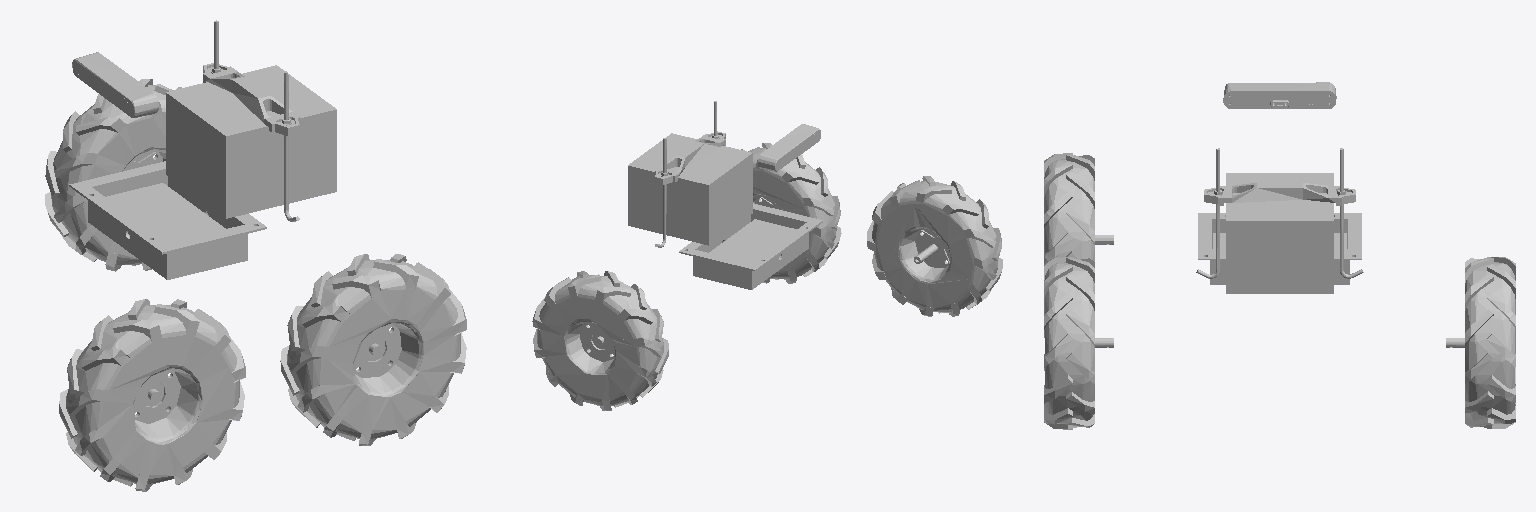
robot.urdf — assem:
<robot name="assem" version="1.0">
  <joint name="Cube_link_joint" type="fixed">
    <origin rpy="0.00000 0.00000 0.00000" xyz="0.01837 -0.07980 -0.04656"/>
    <parent link="chassisAssembly_-_electronicsHousing-1_Rough_6_Pin_Pannel_C.002"/>
    <child link="Cube_link"/>
  </joint>
  <joint name="LongMotorAssem_V4 - Rough Shaft_V2-1.001_link_joint" type="continuous">
    <limit lower="0.00000" upper="0.00000" effort="0.00000" velocity="0.00000"/>
    <origin rpy="0.00000 0.00000 -2.34661" xyz="0.12032 -0.18908 0.02638"/>
    <parent link="suspensionAssemblyMirror_-_bogieCenterBracket_Outside-6_link"/>
    <child link="LongMotorAssem_V4_-_Rough_Shaft_V2-1.001_link"/>
    <axis xyz="0.00000 0.00000 1.00000"/>
  </joint>
  <joint name="LongMotorAssem_V4 - Rough Shaft_V2-1.002_link_joint" type="continuous">
    <limit lower="0.00000" upper="0.00000" effort="0.00000" velocity="0.00000"/>
    <origin rpy="-0.00000 0.00000 2.19125" xyz="-0.17866 -0.06537 0.02638"/>
    <parent link="suspensionAssemblyMirror_-_bogieCenterBracket_Outside-6_link"/>
    <child link="LongMotorAssem_V4_-_Rough_Shaft_V2-1.002_link"/>
    <axis xyz="0.00000 0.00000 1.00000"/>
  </joint>
  <joint name="LongMotorAssem_V4 - Rough Shaft_V2-1.003_link_joint" type="continuous">
    <limit lower="0.00000" upper="0.00000" effort="0.00000" velocity="0.00000"/>
    <origin rpy="0.00000 0.00000 2.05076" xyz="-0.29512 -0.20932 0.09071"/>
    <parent link="suspensionAssemblyMirror_-_RockerArmBack-7.001_link"/>
    <child link="LongMotorAssem_V4_-_Rough_Shaft_V2-1.003_link"/>
    <axis xyz="0.00000 0.00000 1.00000"/>
  </joint>
  <joint name="LongMotorAssem_V4 - Rough Shaft_V2-1.004_link_joint" type="continuous">
    <limit lower="0.00000" upper="0.00000" effort="0.00000" velocity="0.00000"/>
    <origin rpy="-0.00000 0.00000 2.34661" xyz="-0.12032 -0.18908 0.02638"/>
    <parent link="suspensionAssemblyMirror_-_bogieCenterBracket_Outside-6.001_lin"/>
    <child link="LongMotorAssem_V4_-_Rough_Shaft_V2-1.004_link"/>
    <axis xyz="0.00000 0.00000 1.00000"/>
  </joint>
  <joint name="LongMotorAssem_V4 - Rough Shaft_V2-1.005_link_joint" type="continuous">
    <limit lower="0.00000" upper="0.00000" effort="0.00000" velocity="0.00000"/>
    <origin rpy="-0.00000 0.00000 0.26966" xyz="0.17866 -0.06537 0.02638"/>
    <parent link="suspensionAssemblyMirror_-_bogieCenterBracket_Outside-6.001_lin"/>
    <child link="LongMotorAssem_V4_-_Rough_Shaft_V2-1.005_link"/>
    <axis xyz="0.00000 0.00000 1.00000"/>
  </joint>
  <joint name="LongMotorAssem_V4 - Rough Shaft_V2-1_link_joint" type="continuous">
    <limit lower="0.00000" upper="0.00000" effort="0.00000" velocity="0.00000"/>
    <origin rpy="-0.00000 -0.00000 -2.05076" xyz="0.29512 -0.20932 0.09071"/>
    <parent link="suspensionAssemblyMirror_-_RockerArmBack-7_link"/>
    <child link="LongMotorAssem_V4_-_Rough_Shaft_V2-1_link"/>
    <axis xyz="0.00000 0.00000 1.00000"/>
  </joint>
  <joint name="Zed2-i_link_joint" type="fixed">
    <origin rpy="1.57080 0.00000 -1.57080" xyz="-0.08420 0.00894 0.08299"/>
    <parent link="chassisAssembly_-_electronicsHousing-1_Rough_6_Pin_Pannel_C.002"/>
    <child link="Zed2-i_link"/>
  </joint>
  <joint name="chassisAssembly - electronicsHousing-1 Rough 6 Pin Pannel C.002_joint" type="fixed">
    <origin rpy="0.00000 0.00000 0.00000" xyz="-0.08592 -0.00513 0.39248"/>
    <parent link="chassisAssembly_-_chassisFrameShort-2_link"/>
    <child link="chassisAssembly_-_electronicsHousing-1_Rough_6_Pin_Pannel_C.002"/>
  </joint>
  <joint name="chassisAssembly - roverBattery-1_link_joint" type="fixed">
    <origin rpy="0.00000 0.00000 0.00000" xyz="0.05208 0.00000 0.34177"/>
    <parent link="chassisAssembly_-_chassisFrameShort-2_link"/>
    <child link="chassisAssembly_-_roverBattery-1_link"/>
  </joint>
  <joint name="chassisAssembly - sensorPackageEnclosure-1_link_joint" type="fixed">
    <origin rpy="-3.14159 0.00000 0.00000" xyz="-0.07970 -0.00236 0.26479"/>
    <parent link="chassisAssembly_-_chassisFrameShort-2_link"/>
    <child link="chassisAssembly_-_sensorPackageEnclosure-1_link"/>
  </joint>
  <joint name="suspensionAssemblyMirror - RockerArmBack-7.001_link_joint" type="revolute">
    <limit lower="-3.14000" upper="3.14000" effort="0.00000" velocity="0.00000"/>
    <origin rpy="1.57080 -0.00000 0.00000" xyz="0.00500 -0.16509 0.38099"/>
    <parent link="chassisAssembly_-_chassisFrameShort-2_link"/>
    <child link="suspensionAssemblyMirror_-_RockerArmBack-7.001_link"/>
    <axis xyz="0.00000 0.00000 1.00000"/>
  </joint>
  <joint name="suspensionAssemblyMirror - RockerArmBack-7_link_joint" type="revolute">
    <limit lower="-3.14000" upper="3.14000" effort="0.00000" velocity="0.00000"/>
    <origin rpy="1.57080 0.00000 3.14159" xyz="0.00509 0.16510 0.38132"/>
    <parent link="chassisAssembly_-_chassisFrameShort-2_link"/>
    <child link="suspensionAssemblyMirror_-_RockerArmBack-7_link"/>
    <axis xyz="0.00000 0.00000 1.00000"/>
  </joint>
  <joint name="suspensionAssemblyMirror - bogieCenterBracket_Outside-6.001_lin_joint" type="revolute">
    <limit lower="-3.14000" upper="3.14000" effort="0.00000" velocity="0.00000"/>
    <origin rpy="0.00000 0.00000 -0.26966" xyz="0.22047 -0.07218 0.06434"/>
    <parent link="suspensionAssemblyMirror_-_RockerArmBack-7.001_link"/>
    <child link="suspensionAssemblyMirror_-_bogieCenterBracket_Outside-6.001_lin"/>
    <axis xyz="0.00000 0.00000 1.00000"/>
  </joint>
  <joint name="suspensionAssemblyMirror - bogieCenterBracket_Outside-6_link_joint" type="revolute">
    <limit lower="-3.14000" upper="3.14000" effort="0.00000" velocity="0.00000"/>
    <origin rpy="0.00000 0.00000 0.26966" xyz="-0.22047 -0.07218 0.06434"/>
    <parent link="suspensionAssemblyMirror_-_RockerArmBack-7_link"/>
    <child link="suspensionAssemblyMirror_-_bogieCenterBracket_Outside-6_link"/>
    <axis xyz="0.00000 0.00000 1.00000"/>
  </joint>
  <link name="Cube_link"/>
  <link name="LongMotorAssem_V4_-_Rough_Shaft_V2-1.001_link">
    <collision name="LongMotorAssem_V4 - Rough Shaft_V2-1.001_collision">
      <origin rpy="-3.14159 0.00000 0.00000" xyz="0.00006 -0.00002 0.06622"/>
      <geometry>
        <cylinder radius="0.13329" length="0.10744"/>
      </geometry>
    </collision>
    <inertial>
      <inertia ixx="0.00162" ixy="0.00000" ixz="0.00000" iyy="0.00267" iyz="0.00000" izz="0.00162"/>
      <origin rpy="0.00000 0.00000 0.00000" xyz="0.00006 -0.00002 0.06622"/>
      <mass value="0.30000"/>
    </inertial>
    <visual name="LongMotorAssem_V4 - Rough Shaft_V2-1.001">
      <origin rpy="-3.14159 0.00000 0.00000" xyz="0.00000 -0.00000 0.00000"/>
      <material name="Metal10"/>
      <geometry>
        <mesh filename="package://meshes/dae/LongMotorAssem_V4 - Rough Shaft_V2-1.001.dae" scale="1.00000 1.00000 1.00000"/>
      </geometry>
    </visual>
  </link>
  <link name="LongMotorAssem_V4_-_Rough_Shaft_V2-1.002_link">
    <collision name="LongMotorAssem_V4 - Rough Shaft_V2-1.002_collision">
      <origin rpy="3.14159 0.00000 0.00000" xyz="0.00006 -0.00002 0.06622"/>
      <geometry>
        <cylinder radius="0.13329" length="0.10744"/>
      </geometry>
    </collision>
    <inertial>
      <inertia ixx="0.00162" ixy="0.00000" ixz="0.00000" iyy="0.00267" iyz="-0.00000" izz="0.00162"/>
      <origin rpy="0.00000 0.00000 0.00000" xyz="0.00006 -0.00002 0.06622"/>
      <mass value="0.30000"/>
    </inertial>
    <visual name="LongMotorAssem_V4 - Rough Shaft_V2-1.002">
      <origin rpy="3.14159 0.00000 0.00000" xyz="0.00000 0.00000 0.00000"/>
      <material name="Metal10"/>
      <geometry>
        <mesh filename="package://meshes/dae/LongMotorAssem_V4 - Rough Shaft_V2-1.002.dae" scale="1.00000 1.00000 1.00000"/>
      </geometry>
    </visual>
  </link>
  <link name="LongMotorAssem_V4_-_Rough_Shaft_V2-1.003_link">
    <collision name="LongMotorAssem_V4 - Rough Shaft_V2-1.003_collision">
      <origin rpy="0.00000 -0.00000 -0.00000" xyz="-0.00006 -0.00002 0.06622"/>
      <geometry>
        <cylinder radius="0.13329" length="0.10744"/>
      </geometry>
    </collision>
    <inertial>
      <inertia ixx="0.00162" ixy="-0.00000" ixz="0.00000" iyy="0.00267" iyz="-0.00000" izz="0.00162"/>
      <origin rpy="0.00000 0.00000 0.00000" xyz="-0.00006 -0.00002 0.06622"/>
      <mass value="0.30000"/>
    </inertial>
    <visual name="LongMotorAssem_V4 - Rough Shaft_V2-1.003">
      <origin rpy="0.00000 -0.00000 -0.00000" xyz="-0.00000 0.00000 0.00000"/>
      <material name="Metal10"/>
      <geometry>
        <mesh filename="package://meshes/dae/LongMotorAssem_V4 - Rough Shaft_V2-1.003.dae" scale="1.00000 1.00000 1.00000"/>
      </geometry>
    </visual>
  </link>
  <link name="LongMotorAssem_V4_-_Rough_Shaft_V2-1.004_link">
    <collision name="LongMotorAssem_V4 - Rough Shaft_V2-1.004_collision">
      <origin rpy="0.00000 0.00000 0.00000" xyz="-0.00006 -0.00002 0.06622"/>
      <geometry>
        <cylinder radius="0.13329" length="0.10744"/>
      </geometry>
    </collision>
    <inertial>
      <inertia ixx="0.00162" ixy="-0.00000" ixz="0.00000" iyy="0.00267" iyz="-0.00000" izz="0.00162"/>
      <origin rpy="0.00000 0.00000 0.00000" xyz="-0.00006 -0.00002 0.06622"/>
      <mass value="0.30000"/>
    </inertial>
    <visual name="LongMotorAssem_V4 - Rough Shaft_V2-1.004">
      <origin rpy="0.00000 0.00000 0.00000" xyz="-0.00000 -0.00000 -0.00000"/>
      <material name="Metal10"/>
      <geometry>
        <mesh filename="package://meshes/dae/LongMotorAssem_V4 - Rough Shaft_V2-1.004.dae" scale="1.00000 1.00000 1.00000"/>
      </geometry>
    </visual>
  </link>
  <link name="LongMotorAssem_V4_-_Rough_Shaft_V2-1.005_link">
    <collision name="LongMotorAssem_V4 - Rough Shaft_V2-1.005_collision">
      <origin rpy="-3.14159 0.00000 -0.00000" xyz="0.00004 0.00005 0.06622"/>
      <geometry>
        <cylinder radius="0.13329" length="0.10744"/>
      </geometry>
    </collision>
    <inertial>
      <inertia ixx="0.00162" ixy="0.00000" ixz="0.00000" iyy="0.00267" iyz="0.00000" izz="0.00162"/>
      <origin rpy="0.00000 0.00000 0.00000" xyz="0.00004 0.00005 0.06622"/>
      <mass value="0.30000"/>
    </inertial>
    <visual name="LongMotorAssem_V4 - Rough Shaft_V2-1.005">
      <origin rpy="1.57080 -0.00000 -0.00000" xyz="0.00000 -0.00000 -0.00000"/>
      <material name="Metal10"/>
      <geometry>
        <mesh filename="package://meshes/dae/LongMotorAssem_V4 - Rough Shaft_V2-1.006.dae" scale="1.00000 1.00000 1.00000"/>
      </geometry>
    </visual>
  </link>
  <link name="LongMotorAssem_V4_-_Rough_Shaft_V2-1_link">
    <collision name="LongMotorAssem_V4 - Rough Shaft_V2-1_collision">
      <origin rpy="-3.14159 0.00000 0.00000" xyz="0.00001 -0.00000 0.06622"/>
      <geometry>
        <cylinder radius="0.13335" length="0.10744"/>
      </geometry>
    </collision>
    <inertial>
      <inertia ixx="0.00162" ixy="0.00000" ixz="0.00000" iyy="0.00267" iyz="0.00000" izz="0.00162"/>
      <origin rpy="0.00000 0.00000 0.00000" xyz="0.00001 -0.00000 0.06622"/>
      <mass value="0.30000"/>
    </inertial>
    <visual name="LongMotorAssem_V4 - Rough Shaft_V2-1">
      <origin rpy="-3.14159 0.00000 0.00000" xyz="-0.00000 0.00000 0.00000"/>
      <material name="Metal10"/>
      <geometry>
        <mesh filename="package://meshes/dae/LongMotorAssem_V4 - Rough Shaft_V2-1.dae" scale="1.00000 1.00000 1.00000"/>
      </geometry>
    </visual>
  </link>
  <link name="Zed2-i_link">
    <inertial>
      <inertia ixx="0.00048" ixy="0.00000" ixz="-0.00000" iyy="0.00004" iyz="0.00000" izz="0.00050"/>
      <origin rpy="0.00000 0.00000 0.00000" xyz="0.00378 0.00106 -0.00564"/>
      <mass value="0.20000"/>
    </inertial>
    <visual name="Zed2-i">
      <origin rpy="0.00000 1.57080 0.00000" xyz="0.00000 0.00000 -0.00000"/>
      <material name="Glass"/>
      <geometry>
        <mesh filename="package://meshes/dae/Zed2-i.dae" scale="1.00000 1.00000 1.00000"/>
      </geometry>
    </visual>
  </link>
  <link name="chassisAssembly_-_chassisFrameShort-2_link">
    <inertial>
      <inertia ixx="0.00100" ixy="0.00000" ixz="0.00000" iyy="0.00100" iyz="0.00000" izz="0.00100"/>
      <origin rpy="0.00000 0.00000 0.00000" xyz="0.00000 0.00000 0.00000"/>
      <mass value="2.00000"/>
    </inertial>
    <visual name="chassisAssembly - chassisFrameShort-2">
      <origin rpy="1.57080 0.00000 0.00000" xyz="0.00000 0.00000 0.29224"/>
      <material name="Metal28"/>
      <geometry>
        <mesh filename="package://meshes/dae/chassisAssembly - chassisFrameShort-2.dae" scale="1.00000 1.00000 1.00000"/>
      </geometry>
    </visual>
  </link>
  <link name="chassisAssembly_-_electronicsHousing-1_Rough_6_Pin_Pannel_C.002">
    <inertial>
      <inertia ixx="0.00623" ixy="0.00010" ixz="0.00038" iyy="0.00308" iyz="-0.00011" izz="0.00450"/>
      <origin rpy="0.00000 0.00000 0.00000" xyz="-0.01192 0.00225 0.00595"/>
      <mass value="0.50000"/>
    </inertial>
    <visual name="chassisAssembly - electronicsHousing-1 Rough 6 Pin Pannel C.001">
      <origin rpy="1.57080 0.00000 0.00000" xyz="0.00000 0.00000 0.00000"/>
      <material name="Plastic03"/>
      <geometry>
        <mesh filename="package://meshes/dae/chassisAssembly - electronicsHousing-1 Rough 6 Pin Pannel C.001.dae" scale="1.00000 1.00000 1.00000"/>
      </geometry>
    </visual>
  </link>
  <link name="chassisAssembly_-_roverBattery-1_link">
    <inertial>
      <inertia ixx="0.04617" ixy="-0.00000" ixz="0.00003" iyy="0.04395" iyz="0.00004" izz="0.03884"/>
      <origin rpy="0.00000 0.00000 0.00000" xyz="-0.00000 -0.00000 0.00144"/>
      <mass value="8.00000"/>
    </inertial>
    <visual name="chassisAssembly - roverBattery-1">
      <origin rpy="1.57080 0.00000 0.00000" xyz="0.00000 0.00000 -0.00000"/>
      <material name="Plastic04"/>
      <geometry>
        <mesh filename="package://meshes/dae/chassisAssembly - roverBattery-1.dae" scale="1.00000 1.00000 1.00000"/>
      </geometry>
    </visual>
  </link>
  <link name="chassisAssembly_-_sensorPackageEnclosure-1_link">
    <inertial>
      <inertia ixx="0.00129" ixy="0.00000" ixz="0.00001" iyy="0.00052" iyz="0.00001" izz="0.00154"/>
      <origin rpy="0.00000 0.00000 0.00000" xyz="0.00247 0.00036 0.01919"/>
      <mass value="0.30000"/>
    </inertial>
    <visual name="chassisAssembly - sensorPackageEnclosure-1">
      <origin rpy="-1.57080 0.00000 0.00000" xyz="0.00000 -0.00000 0.00000"/>
      <material name="Plastic04"/>
      <geometry>
        <mesh filename="package://meshes/dae/chassisAssembly - sensorPackageEnclosure-1.dae" scale="1.00000 1.00000 1.00000"/>
      </geometry>
    </visual>
  </link>
  <link name="suspensionAssemblyMirror_-_RockerArmBack-7.001_link">
    <inertial>
      <inertia ixx="0.03839" ixy="-0.00521" ixz="-0.05264" iyy="0.11630" iyz="-0.00362" izz="0.07964"/>
      <origin rpy="0.00000 0.00000 0.00000" xyz="-0.14394 -0.11660 0.07202"/>
      <mass value="2.00000"/>
    </inertial>
    <visual name="suspensionAssemblyMirror - RockerArmBack-7.001">
      <origin rpy="3.14159 0.00000 0.00000" xyz="0.00000 0.00000 -0.00000"/>
      <material name="Metal28"/>
      <geometry>
        <mesh filename="package://meshes/dae/suspensionAssemblyMirror - RockerArmBack-7.001.dae" scale="1.00000 1.00000 1.00000"/>
      </geometry>
    </visual>
  </link>
  <link name="suspensionAssemblyMirror_-_RockerArmBack-7_link">
    <inertial>
      <inertia ixx="0.03839" ixy="0.00521" ixz="-0.05264" iyy="0.11630" iyz="0.00362" izz="0.07964"/>
      <origin rpy="0.00000 0.00000 0.00000" xyz="0.14394 -0.11660 0.07202"/>
      <mass value="2.00000"/>
    </inertial>
    <visual name="suspensionAssemblyMirror - RockerArmBack-7">
      <origin rpy="-0.00000 0.00000 -0.00000" xyz="0.00000 -0.00000 -0.00000"/>
      <material name="Metal28"/>
      <geometry>
        <mesh filename="package://meshes/dae/suspensionAssemblyMirror - RockerArmBack-7.dae" scale="1.00000 1.00000 1.00000"/>
      </geometry>
    </visual>
  </link>
  <link name="suspensionAssemblyMirror_-_bogieCenterBracket_Outside-6.001_lin">
    <inertial>
      <inertia ixx="0.01321" ixy="0.00058" ixz="-0.00162" iyy="0.04851" iyz="-0.00201" izz="0.03744"/>
      <origin rpy="0.00000 0.00000 0.00000" xyz="0.01868 -0.09125 0.01201"/>
      <mass value="2.50000"/>
    </inertial>
    <visual name="suspensionAssemblyMirror - bogieCenterBracket_Outside-6.001">
      <origin rpy="3.14159 -0.00000 -0.00000" xyz="0.00000 -0.00000 -0.00000"/>
      <material name="Metal28"/>
      <geometry>
        <mesh filename="package://meshes/dae/suspensionAssemblyMirror - bogieCenterBracket_Outside-6.001.dae" scale="1.00000 1.00000 1.00000"/>
      </geometry>
    </visual>
  </link>
  <link name="suspensionAssemblyMirror_-_bogieCenterBracket_Outside-6_link">
    <inertial>
      <inertia ixx="0.01321" ixy="-0.00058" ixz="-0.00162" iyy="0.04851" iyz="0.00201" izz="0.03744"/>
      <origin rpy="0.00000 0.00000 0.00000" xyz="-0.01868 -0.09125 0.01201"/>
      <mass value="2.50000"/>
    </inertial>
    <visual name="suspensionAssemblyMirror - bogieCenterBracket_Outside-6">
      <origin rpy="-0.00000 -0.00000 0.00000" xyz="-0.00000 0.00000 -0.00000"/>
      <material name="Metal28"/>
      <geometry>
        <mesh filename="package://meshes/dae/suspensionAssemblyMirror - bogieCenterBracket_Outside-6.dae" scale="1.00000 1.00000 1.00000"/>
      </geometry>
    </visual>
  </link>
  <material name="Glass">
    <color rgba="0.80000 0.80000 0.80000 1.00000"/>
  </material>
  <material name="Metal10">
    <color rgba="0.80000 0.80000 0.80000 1.00000"/>
  </material>
  <material name="Metal28">
    <color rgba="0.80000 0.80000 0.80000 1.00000"/>
  </material>
  <material name="Plastic03">
    <color rgba="0.80000 0.80000 0.80000 1.00000"/>
  </material>
  <material name="Plastic04">
    <color rgba="0.80000 0.80000 0.80000 1.00000"/>
  </material>
</robot>

--- Render facts (derived) ---
3 views of the same robot in one strip: view 1: azimuth 30°, elevation 25°; view 2: azimuth 150°, elevation 25°; view 3: azimuth 270°, elevation 25° (orthographic).
Model assem with 16 links and 15 joints (4 revolute, 6 continuous, 5 fixed), rooted at chassisAssembly_-_chassisFrameShort-2_link, posed every joint at zero.
Links seen in each view (by area): view 1: LongMotorAssem_V4_-_Rough_Shaft_V2-1.003_link, LongMotorAssem_V4_-_Rough_Shaft_V2-1.004_link, chassisAssembly_-_roverBattery-1_link, chassisAssembly_-_sensorPackageEnclosure-1_link, LongMotorAssem_V4_-_Rough_Shaft_V2-1.001_link, Zed2-i_link; view 2: LongMotorAssem_V4_-_Rough_Shaft_V2-1.003_link, LongMotorAssem_V4_-_Rough_Shaft_V2-1.001_link, chassisAssembly_-_roverBattery-1_link, chassisAssembly_-_sensorPackageEnclosure-1_link, LongMotorAssem_V4_-_Rough_Shaft_V2-1.004_link, Zed2-i_link; view 3: chassisAssembly_-_roverBattery-1_link, LongMotorAssem_V4_-_Rough_Shaft_V2-1.001_link, LongMotorAssem_V4_-_Rough_Shaft_V2-1.004_link, LongMotorAssem_V4_-_Rough_Shaft_V2-1.003_link, Zed2-i_link, chassisAssembly_-_sensorPackageEnclosure-1_link.
Link boxes in pixels (x1,y1,x2,y2): LongMotorAssem_V4_-_Rough_Shaft_V2-1.003_link: (59,299,245,491); LongMotorAssem_V4_-_Rough_Shaft_V2-1.004_link: (280,254,466,445); chassisAssembly_-_roverBattery-1_link: (166,20,336,221); chassisAssembly_-_sensorPackageEnclosure-1_link: (69,161,266,279); LongMotorAssem_V4_-_Rough_Shaft_V2-1.001_link: (45,79,208,271); Zed2-i_link: (72,52,158,117); LongMotorAssem_V4_-_Rough_Shaft_V2-1.003_link: (867,176,1002,316); LongMotorAssem_V4_-_Rough_Shaft_V2-1.001_link: (532,271,668,410); chassisAssembly_-_roverBattery-1_link: (628,101,752,247); chassisAssembly_-_sensorPackageEnclosure-1_link: (679,203,822,289); LongMotorAssem_V4_-_Rough_Shaft_V2-1.004_link: (722,143,841,283); Zed2-i_link: (758,124,820,171); chassisAssembly_-_roverBattery-1_link: (1196,148,1363,293); LongMotorAssem_V4_-_Rough_Shaft_V2-1.001_link: (1446,257,1515,428); LongMotorAssem_V4_-_Rough_Shaft_V2-1.004_link: (1044,257,1113,429); LongMotorAssem_V4_-_Rough_Shaft_V2-1.003_link: (1044,153,1113,263); Zed2-i_link: (1223,82,1336,108); chassisAssembly_-_sensorPackageEnclosure-1_link: (1198,213,1361,284).
Size in the robot's own frame: 0.616 by 0.7265 by 0.467 metres.
Meshes: 15 distinct files referenced, 6 mesh visuals loaded (6 Collada DAE); not drawn: 9 (reference not matched to a file when rendering).